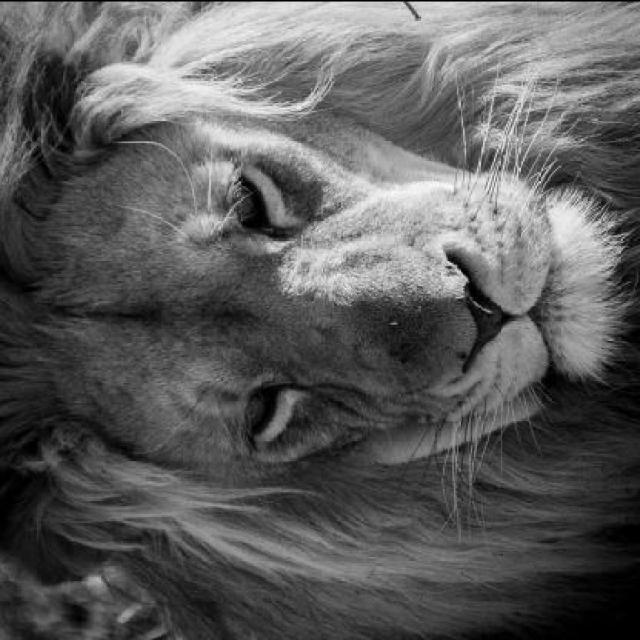Lion: (9, 8, 638, 597)
